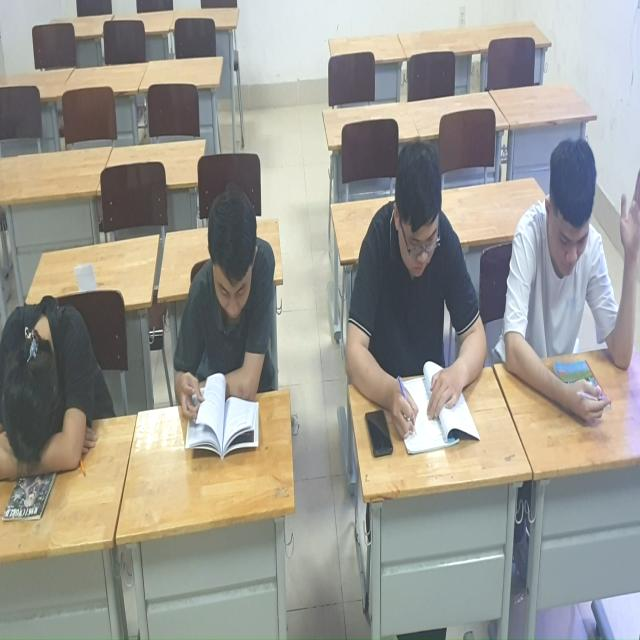raise_hand: (500, 120, 640, 434)
read: (345, 140, 491, 467), (170, 182, 283, 470)
sleep: (1, 270, 114, 499)
